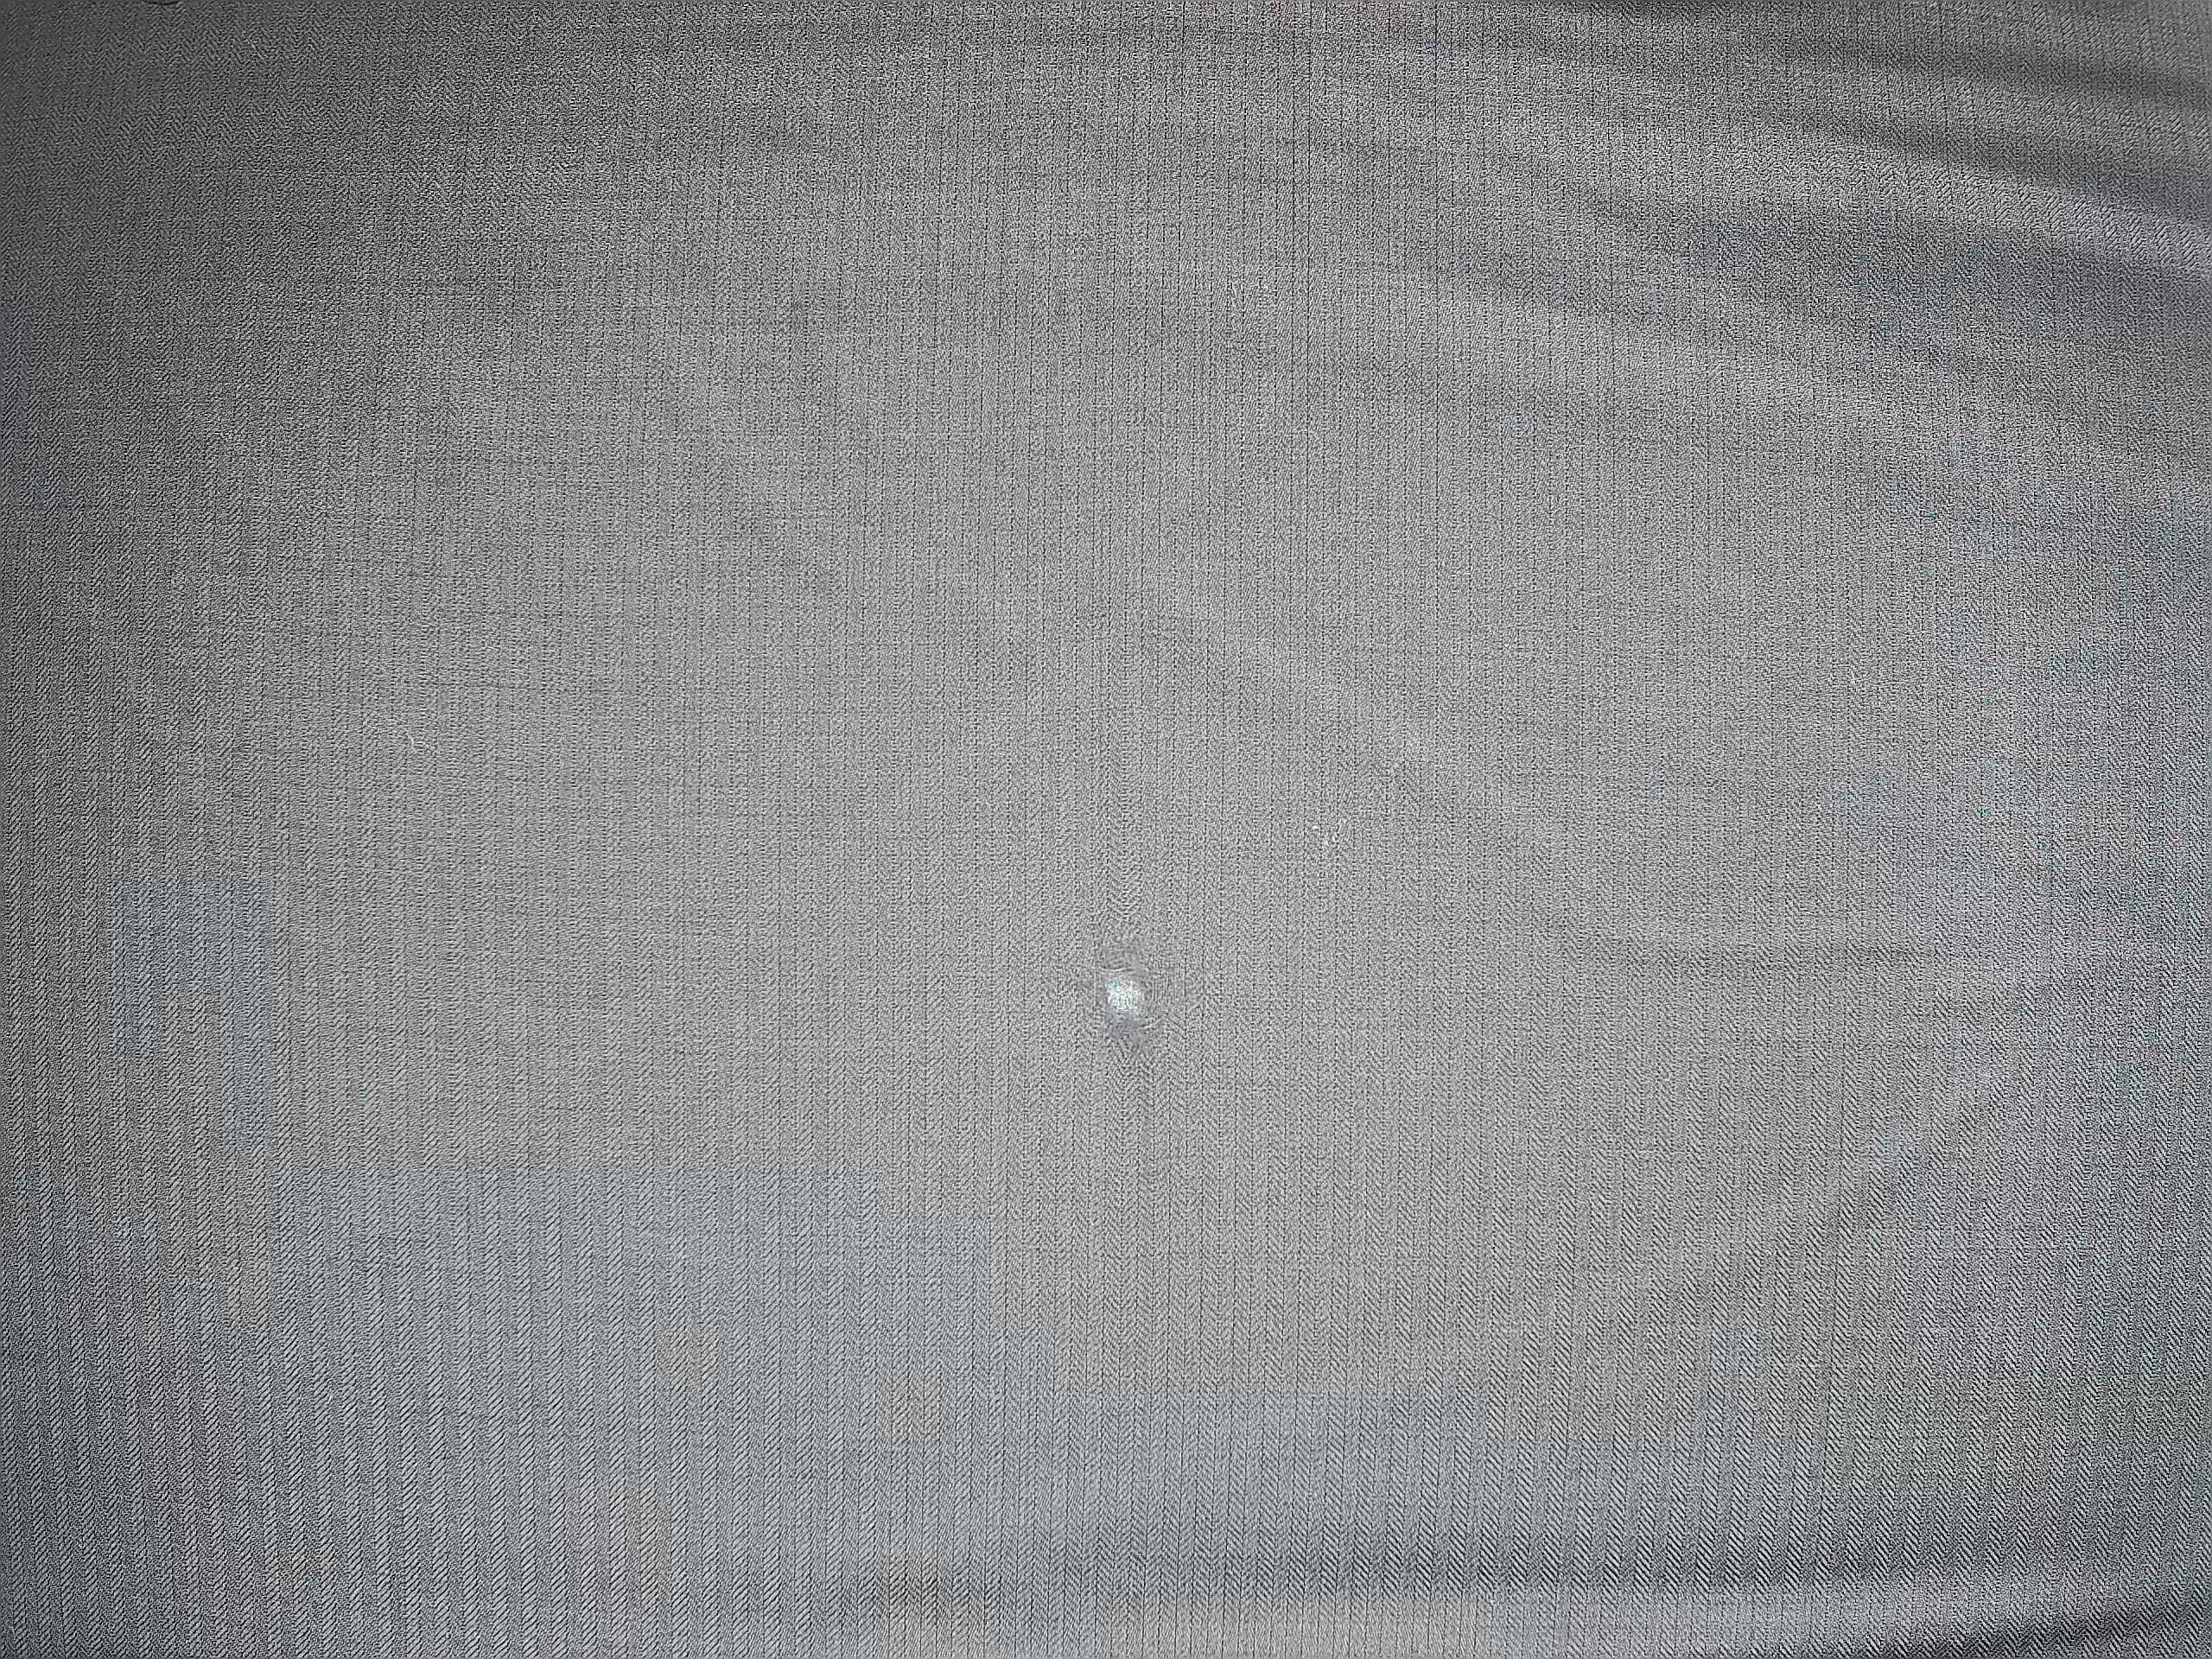rubbing-hole: (1069, 929, 1181, 1051)
